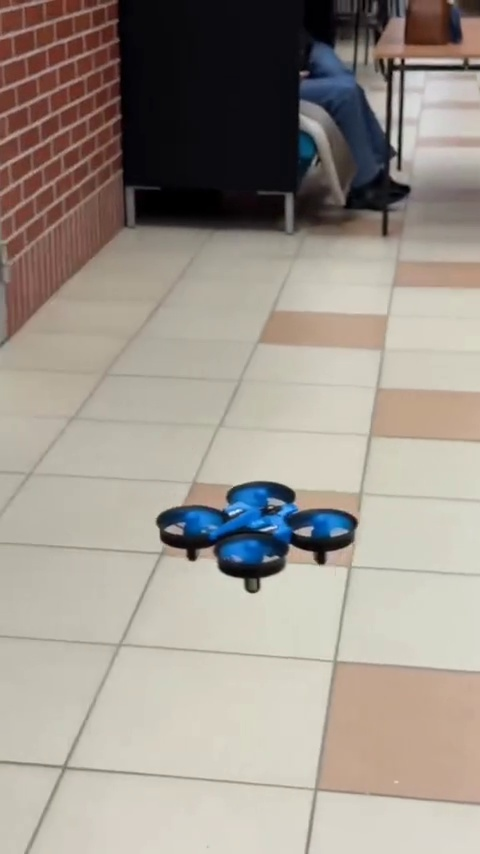drone: (152, 476, 352, 590)
